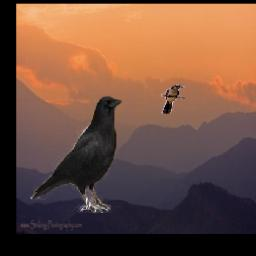Crow: (31, 94, 123, 214)
Cuckoo: (161, 85, 185, 114)
